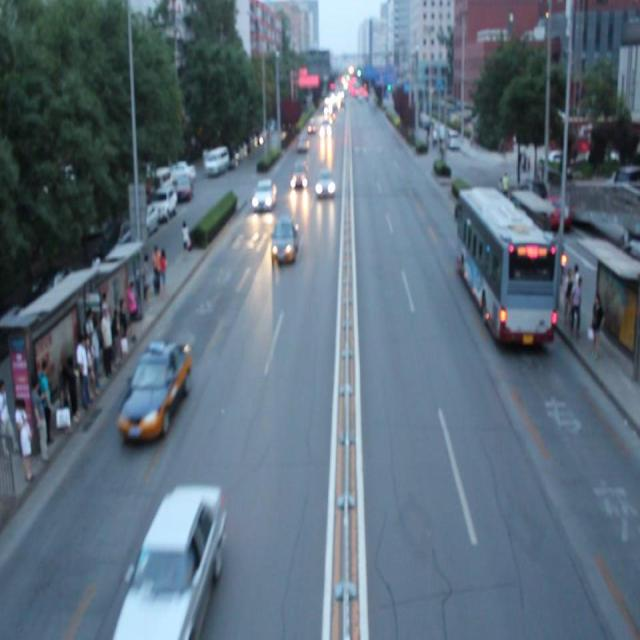car: (125, 475, 225, 640), (124, 331, 189, 446), (269, 216, 300, 268), (249, 174, 276, 213), (313, 168, 337, 202), (289, 155, 308, 193)
van: (453, 185, 556, 354)
